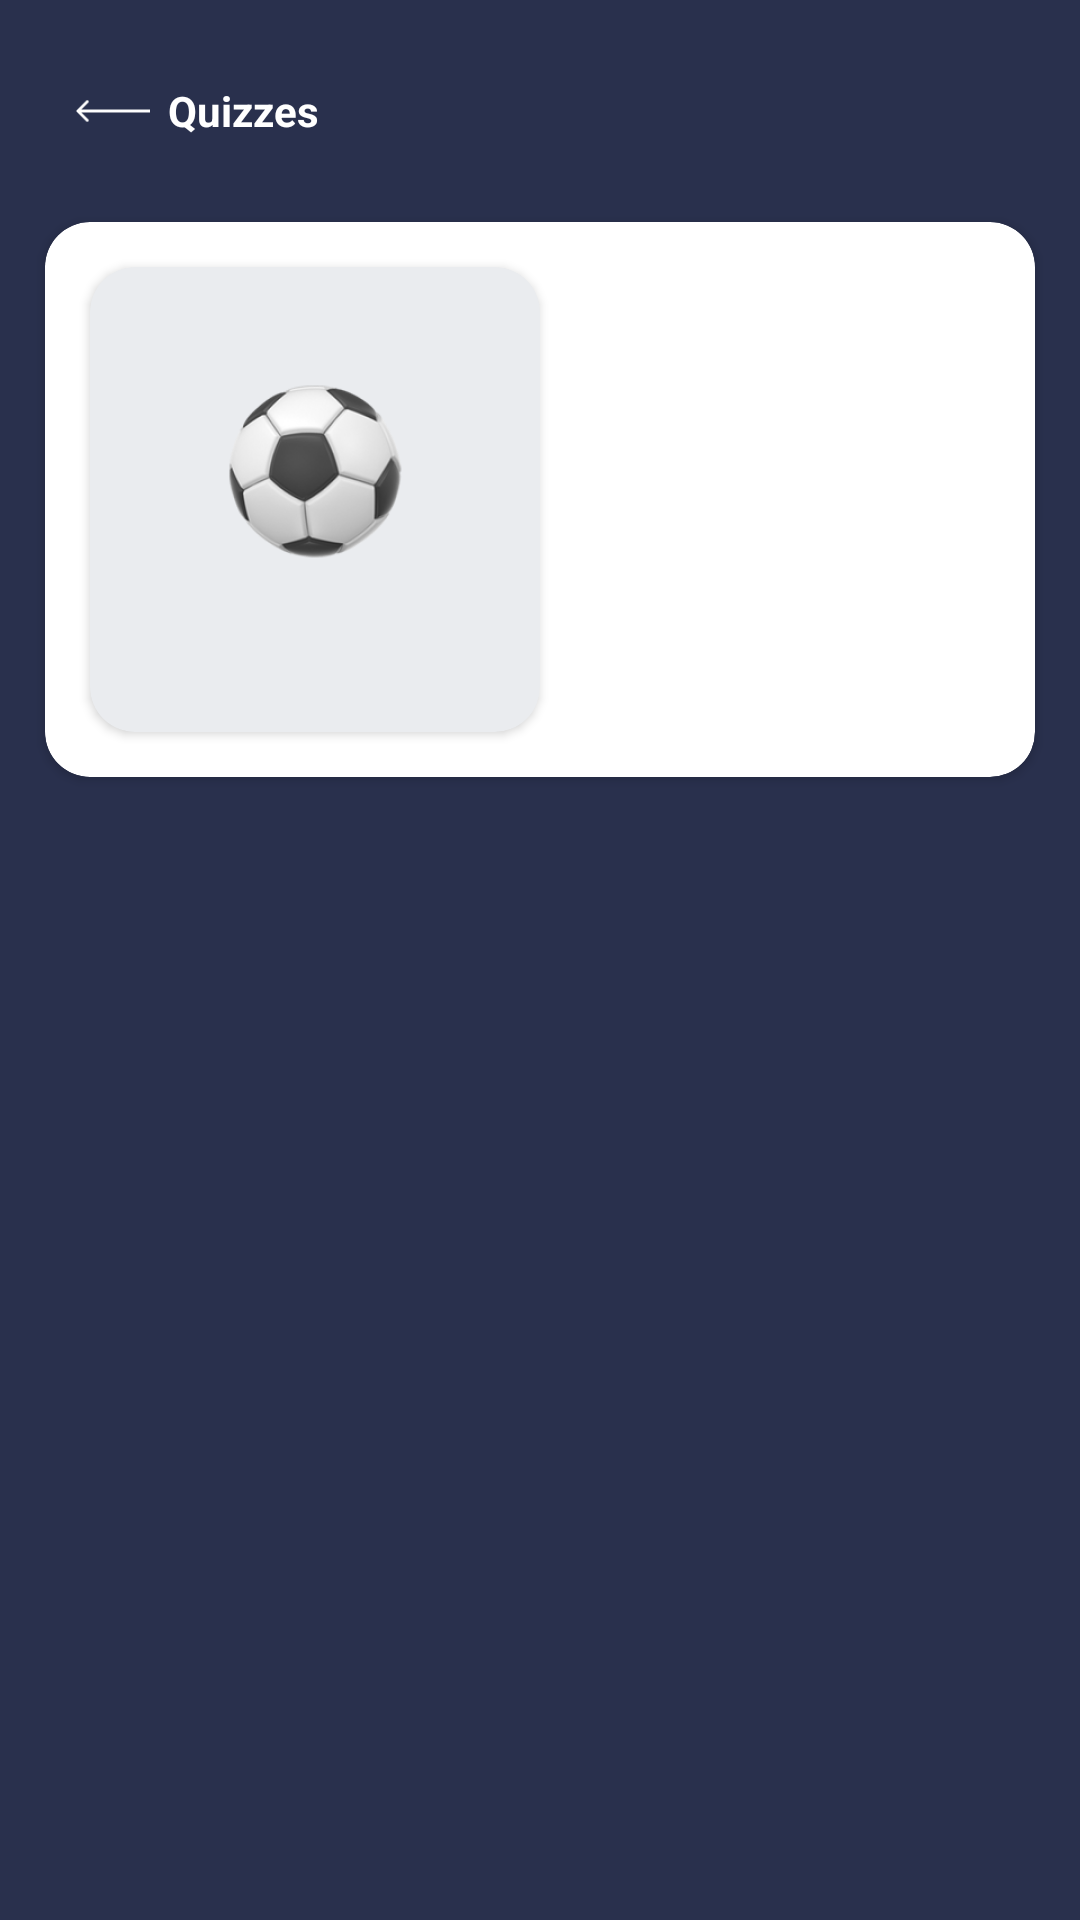

Named icons in this screenshot (1080px x 1920px) and their centers, (x,y):
category football: (315,472)
line back: (113,111)
